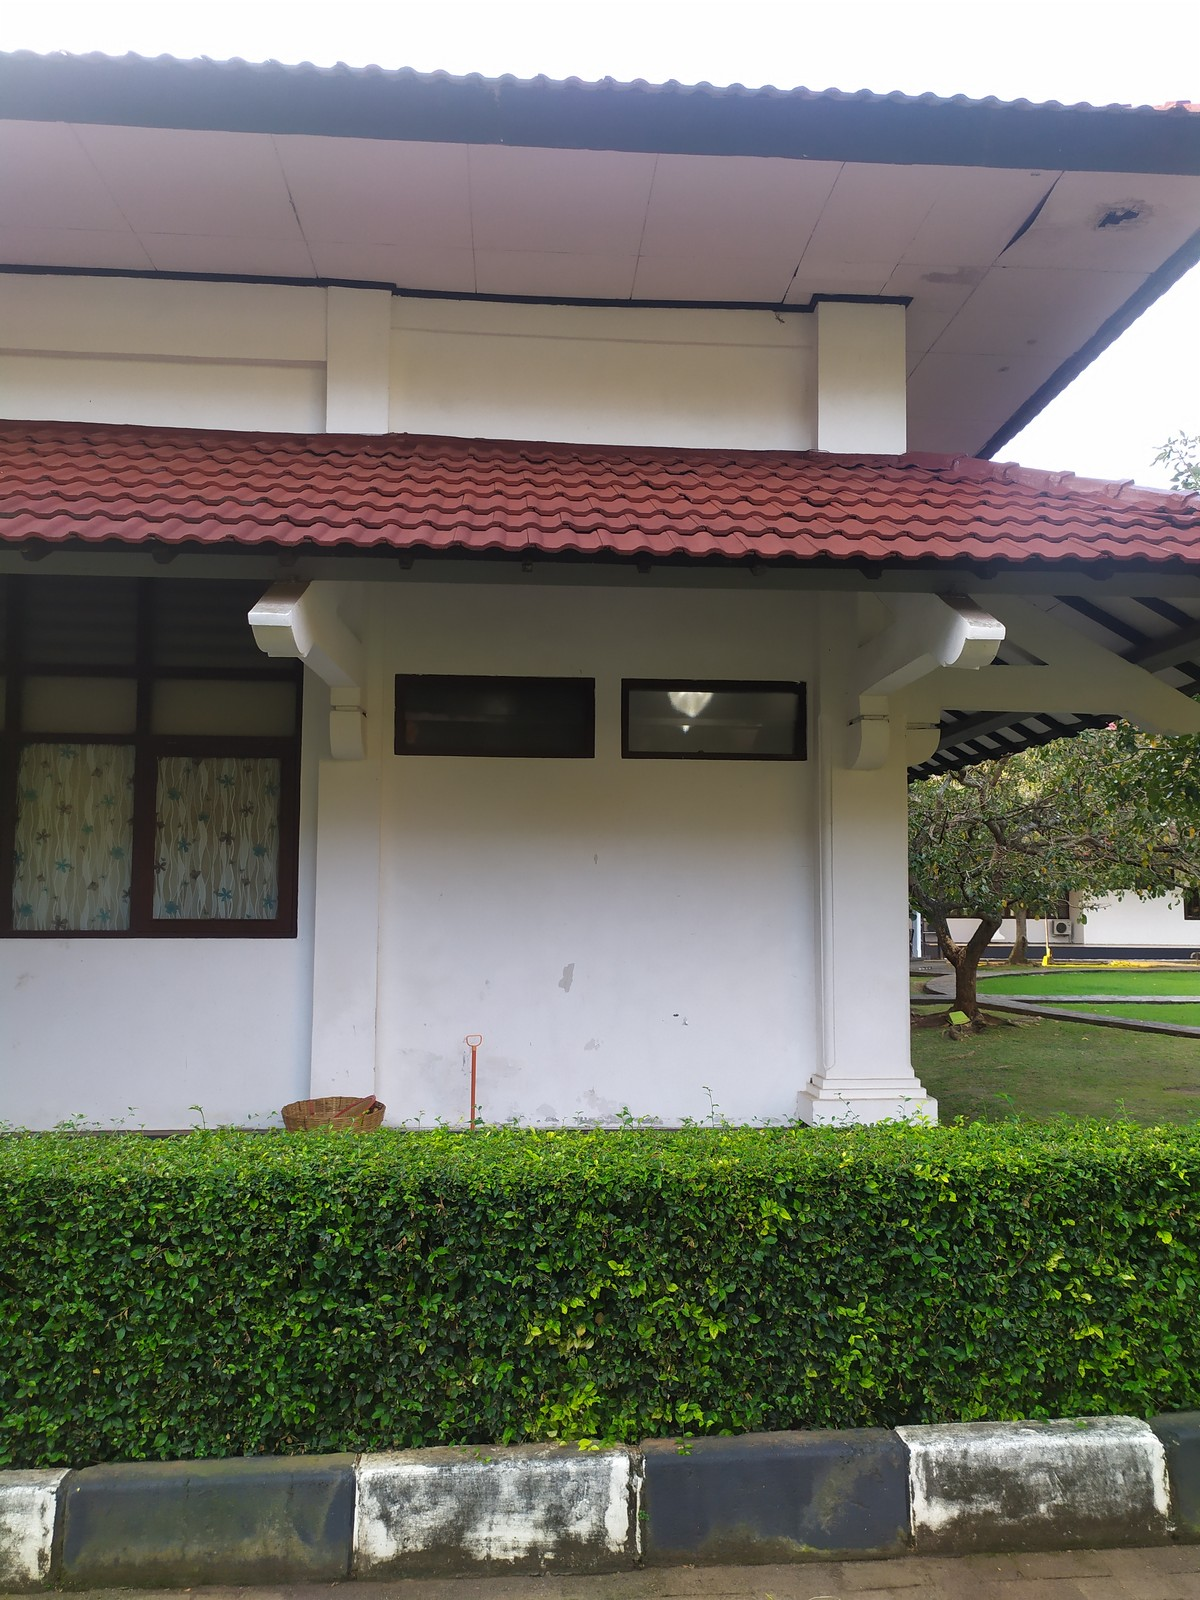concrete column: (803, 617, 923, 1089), (304, 682, 387, 1105)
